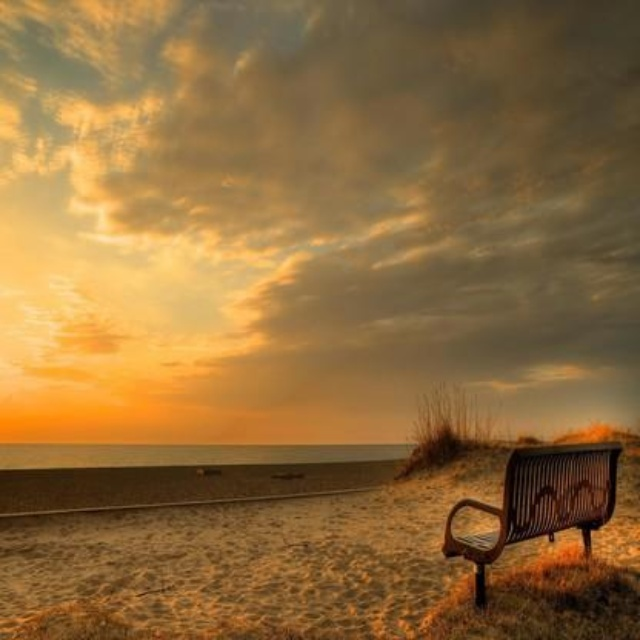obstacle: (422, 446, 628, 608)
